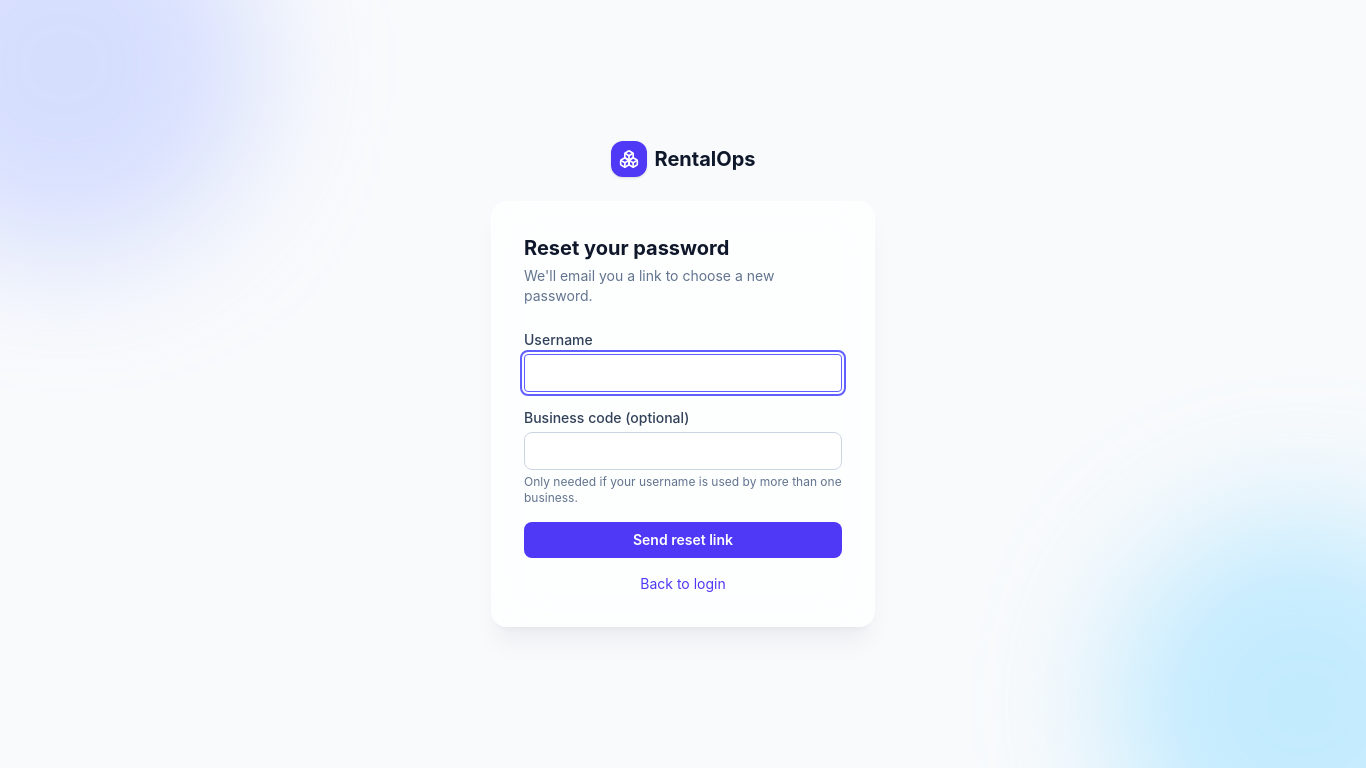
password reset › shows the generic confirmation and never a reset code
This screenshot has width=1366, height=768.
Type "erin" into the field labelled "Username" at point(683, 373), box [524,354,842,392]
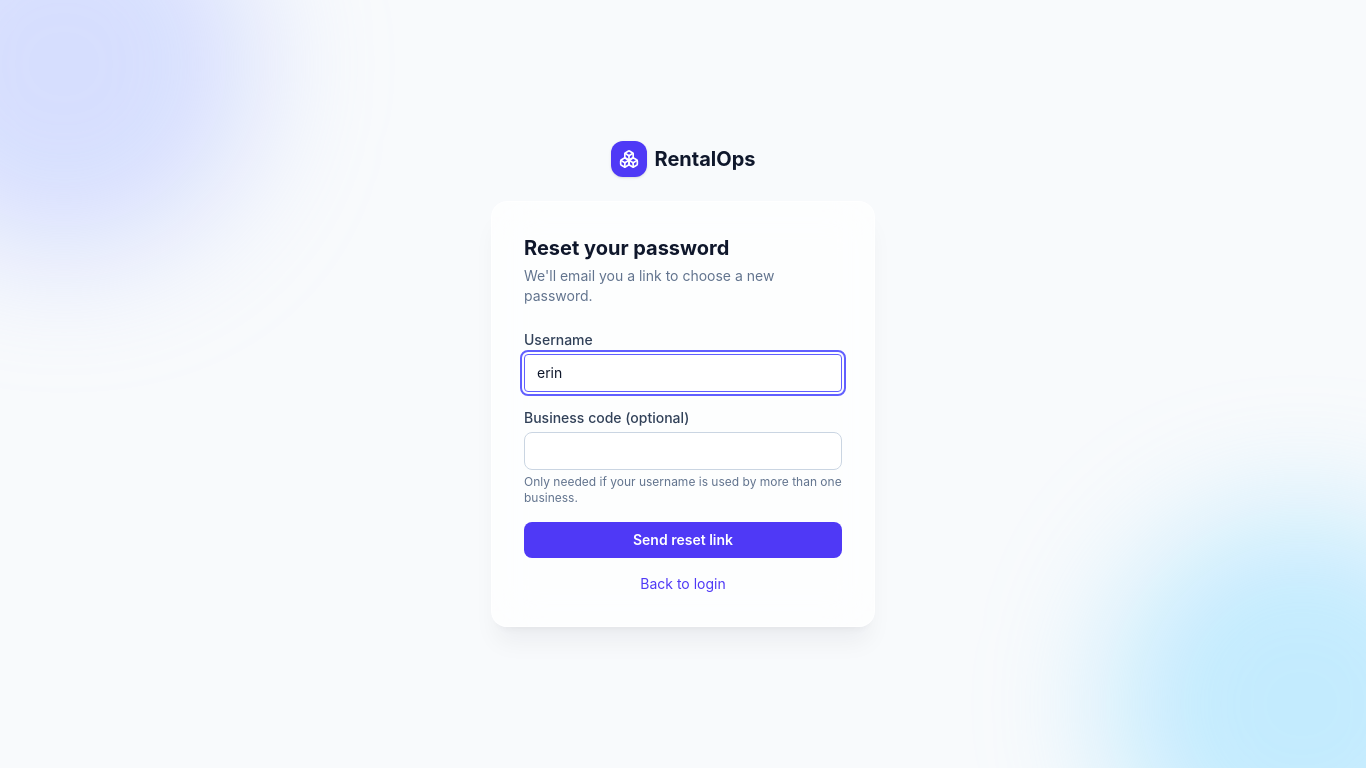
Click the button "Send reset link" at point(683, 540), box [524,522,842,558]
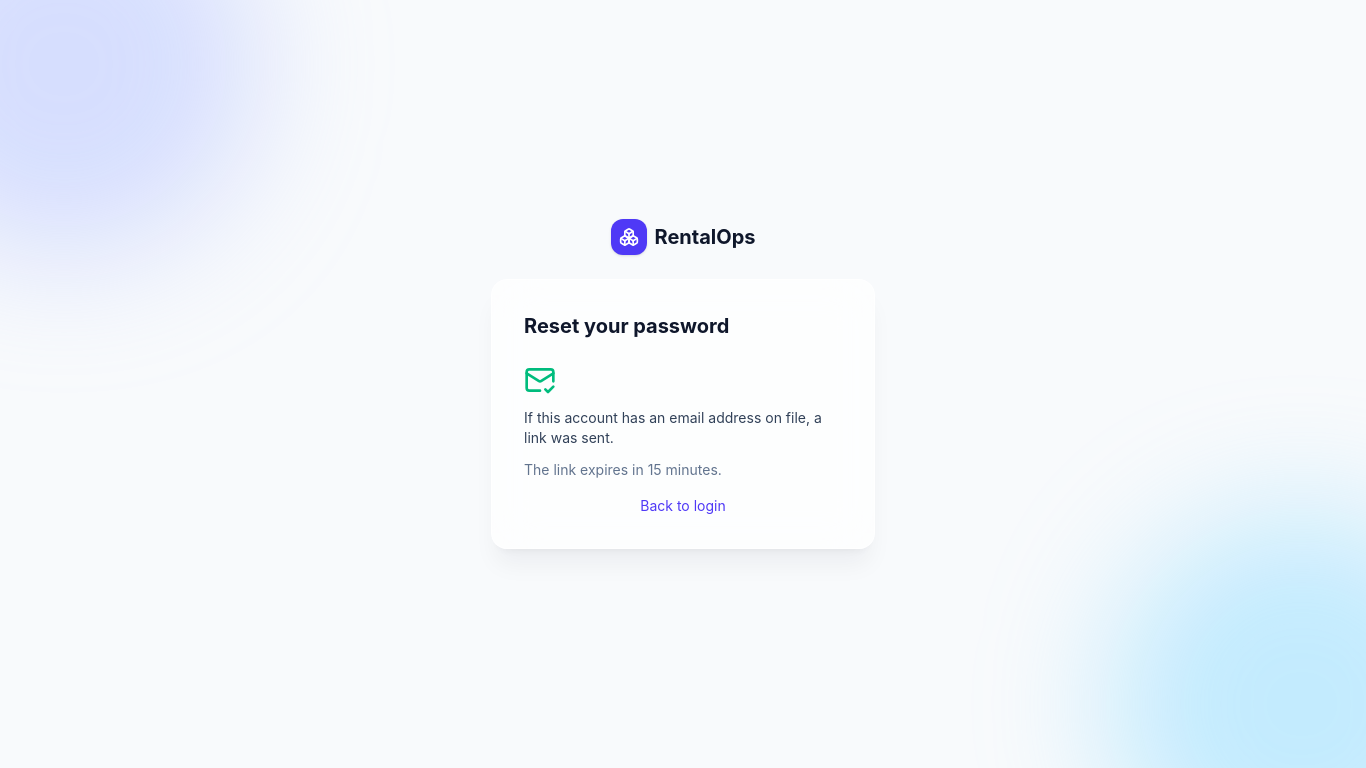
Now the message shows "link was sent", box [524,409,822,446]
Now the text "code" is gone
